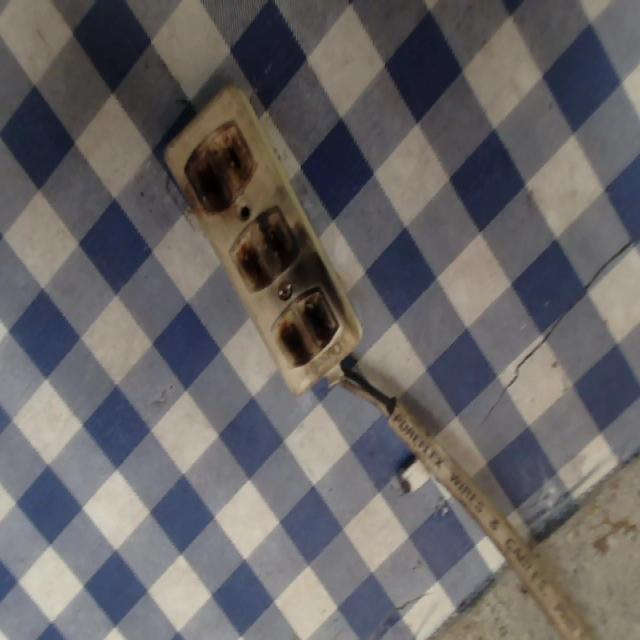-: (176, 123, 263, 209), (228, 207, 299, 296), (267, 284, 341, 367)
